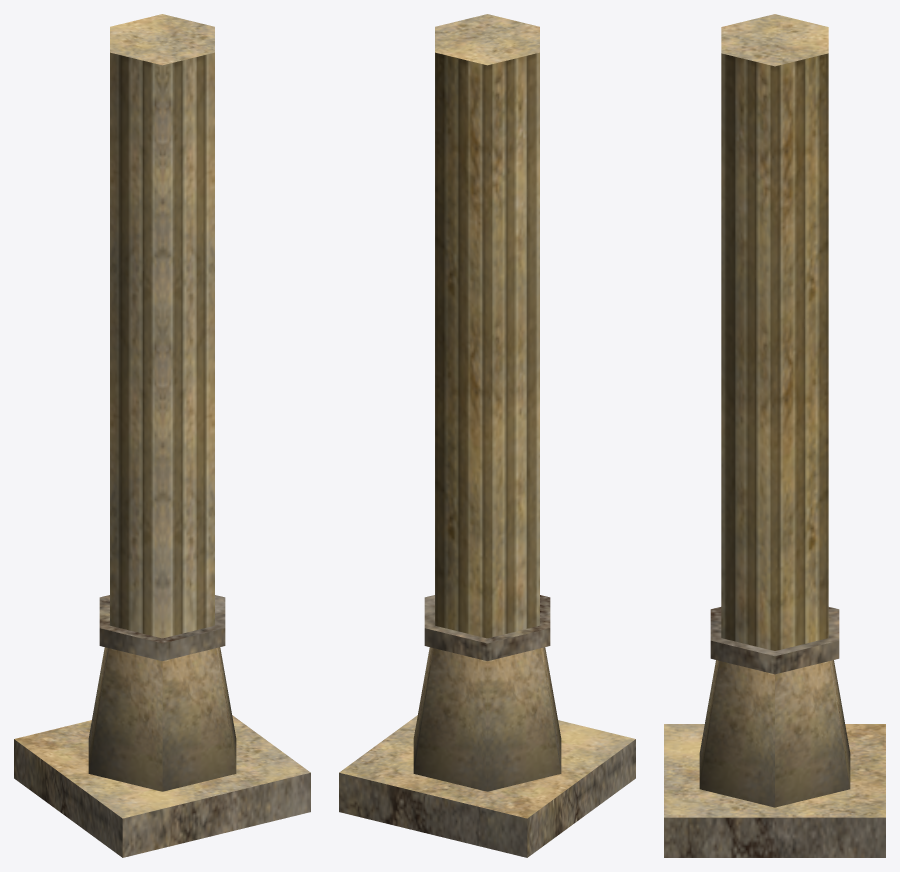
Rendered from hasira.FBX.
3 views of the same model, side by side, from view 1: azimuth 30°, elevation 25°; view 2: azimuth 150°, elevation 25°; view 3: azimuth 270°, elevation 25° (orthographic). The views are drawn at different scales.
Parts seen in each view (by area): view 1: Box001; view 2: Box001; view 3: Box001.
Part boxes in pixels (<box>): Box001: <box>14,14,310,857</box>; Box001: <box>339,14,635,857</box>; Box001: <box>664,14,885,857</box>.
Size of the model in its own units: 19.69 by 75.5 by 19.69.
